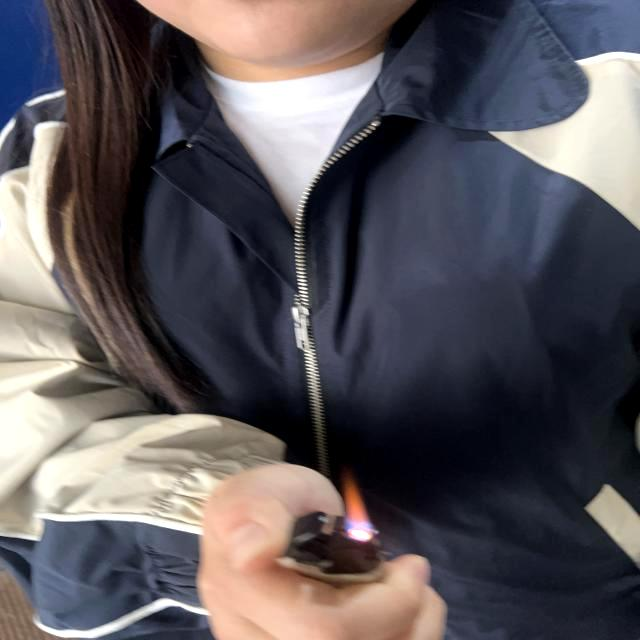fire: (342, 470, 378, 540)
